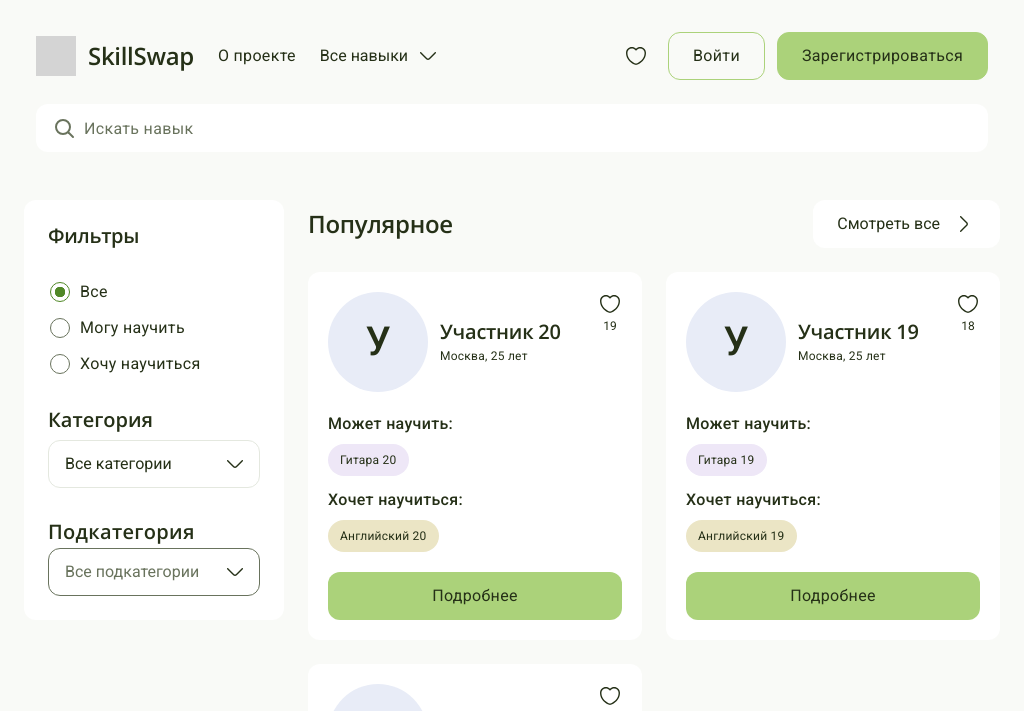
CatalogPage filters › combines search, type and category while keeping both skill groups in cards
Expected: the heading "Популярное" is shown, [308,207,453,240]
Click the radio button labelled "Могу научить": (60, 328) [50,318,70,338]
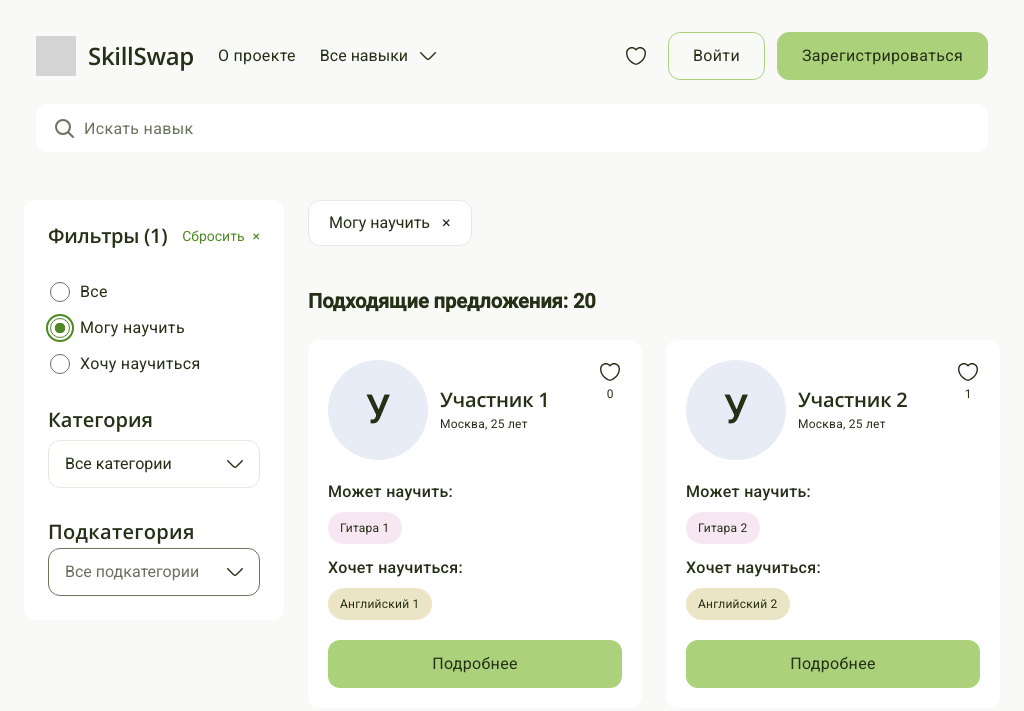
In the search field: (512, 128) [36,104,988,152], type "  АНГЛИЙСКИЙ  "
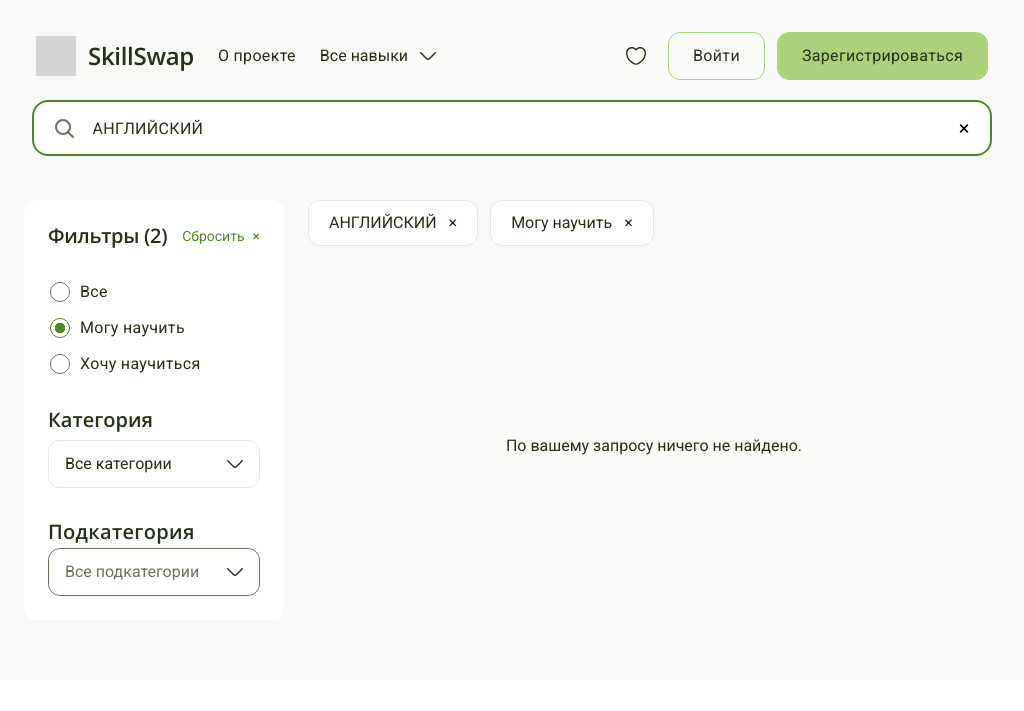
Expected: the heading "Популярное" is not shown
Result: the text "По вашему запросу ничего не найдено." is shown at [506,434,802,458]
Click the radio button labelled "Хочу научиться": (60, 364) [50,354,70,374]
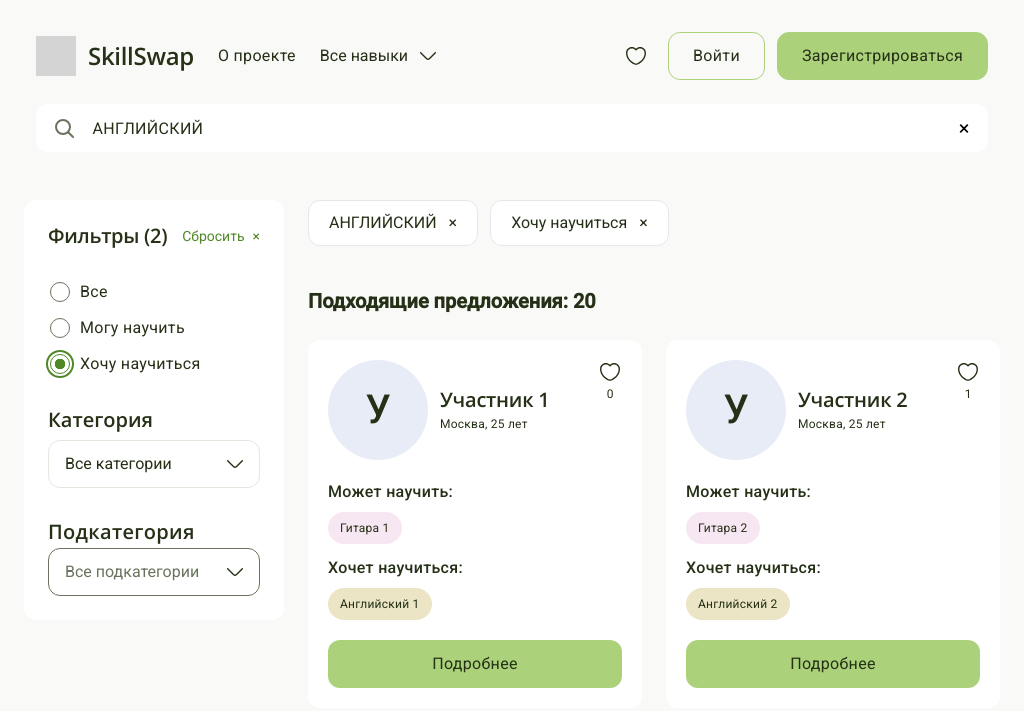
Result: the text "Подходящие предложения: 20" is shown at [308,289,596,313]
Select "Творчество и искусство" in the dropdown labelled "Категория": (154, 464) [48,440,260,488]
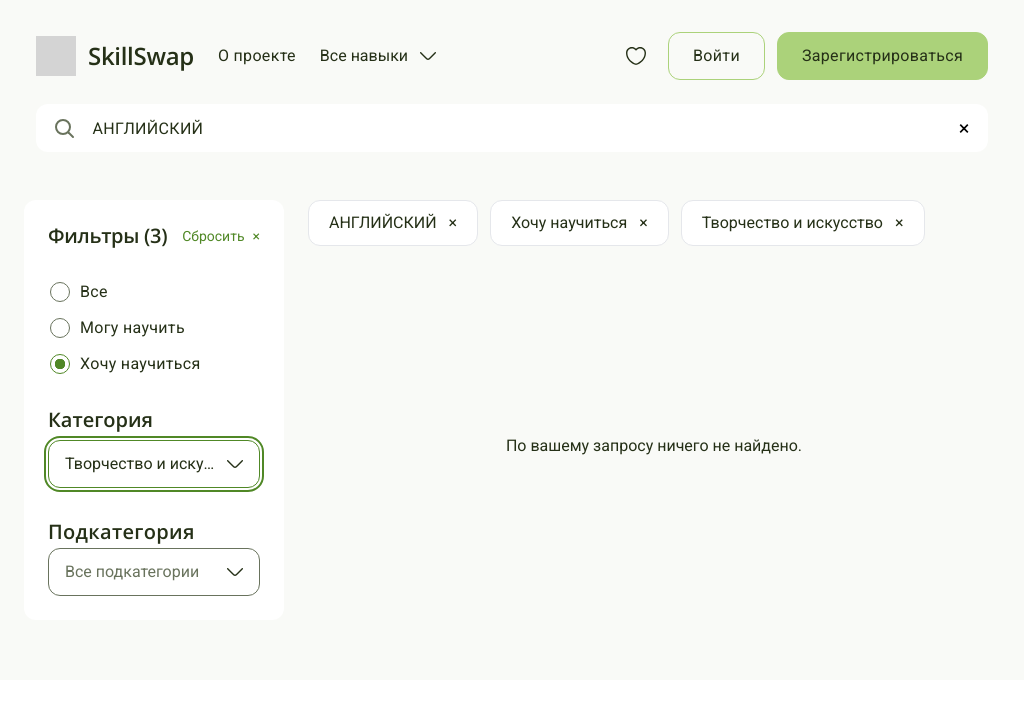
Result: the text "По вашему запросу ничего не найдено." is shown at [506,434,802,458]
Select "Иностранные языки" in the dropdown labelled "Категория": (154, 464) [48,440,260,488]
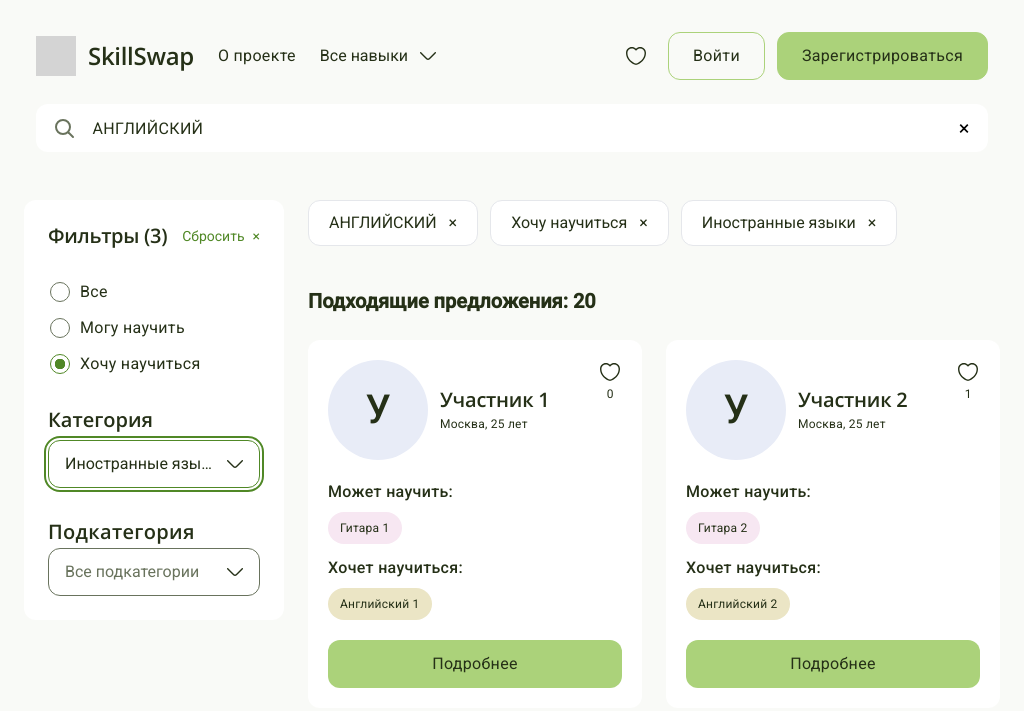
Result: the text "Может научить:" below "Участник 1" is shown at [328,482,453,501]
Result: the text "Хочет научиться:" below "Гитара 1" is shown at [328,558,463,577]
Result: the link "Гитара 1" is shown at [328,512,402,544]
